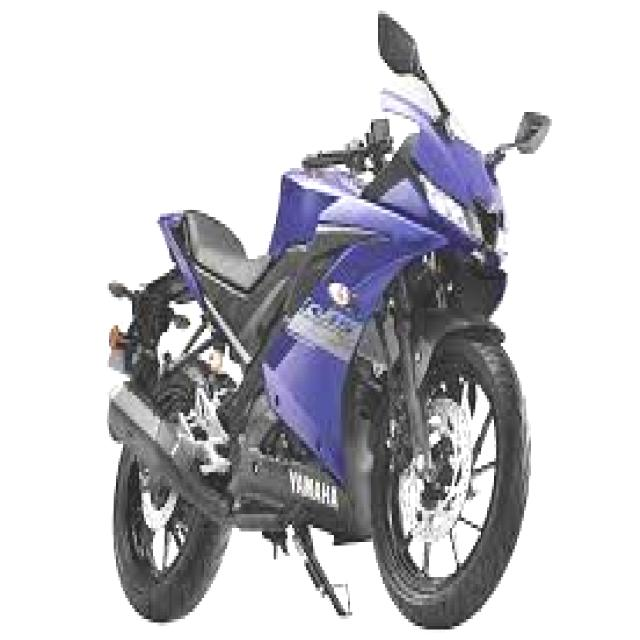MOTORCYCLE: (92, 77, 532, 635)
